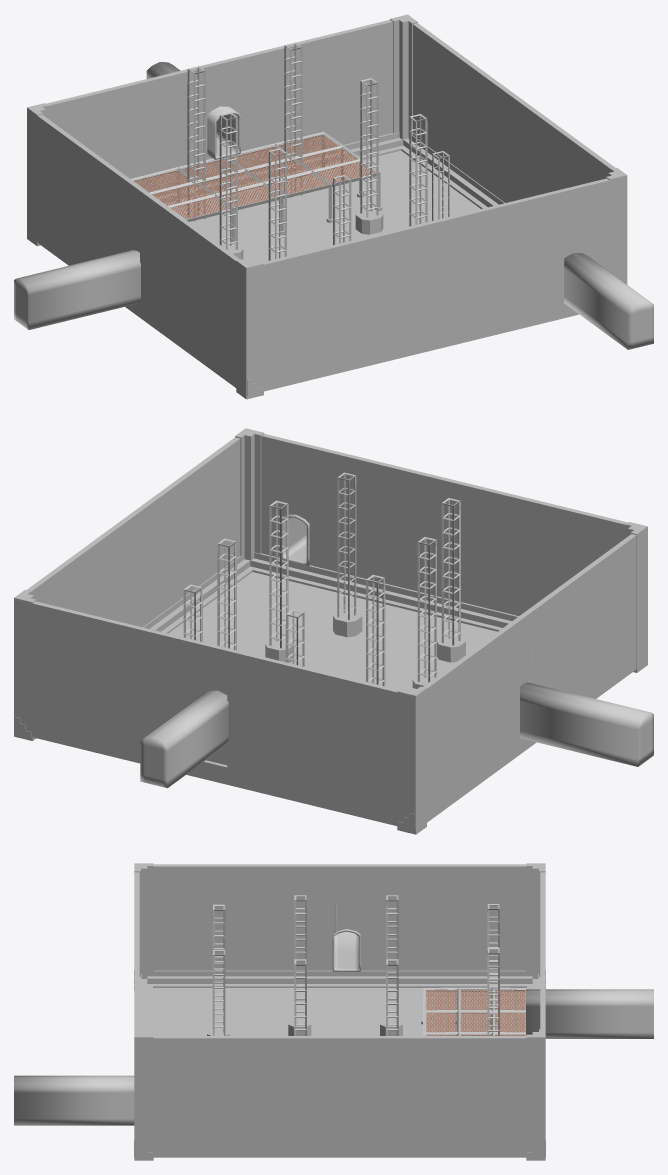
File: warehouseithinkFBX.fbx
3 views of the same model, one above another, from view 1: azimuth 30°, elevation 25°; view 2: azimuth 150°, elevation 25°; view 3: azimuth 270°, elevation 25° (orthographic). The views are drawn at different scales.
Parts seen in each view (by area): view 1: brickwalls, floor, rustywallframes, catwalk, grounddoorway01, grounddoorway02, groundpillar04, groundpillar01, catwalkpillar02, catwalkpillar01, catwalkdoorway, groundpillar05 (+3 smaller); view 2: brickwalls, floor, rustywallframes, grounddoorway01, catwalkdoorway, groundpillar03, groundpillar06, groundpillar05, groundpillar02, groundpillar01, groundpillar04, grounddoorway02 (+2 smaller); view 3: brickwalls, rustywallframes, floor, grounddoorway02, catwalkdoorway, catwalk, grounddoorway01, groundpillar03, groundpillar02, groundpillar01, catwalkpillar02, groundpillar04 (+3 smaller).
Boxes of the visible parts, x1,y1,x2,y2 form: brickwalls: (37,20,626,394); floor: (171,150,480,262); rustywallframes: (27,14,627,399); catwalk: (131,131,382,243); grounddoorway01: (14,250,140,329); grounddoorway02: (564,253,653,349); groundpillar04: (355,78,383,234); groundpillar01: (219,112,243,259); catwalkpillar02: (284,42,302,197); catwalkpillar01: (187,66,205,221); catwalkdoorway: (146,62,240,159); groundpillar05: (409,114,427,226); brickwalls: (14,434,636,829); floor: (169,572,497,689); rustywallframes: (14,428,647,834); grounddoorway01: (520,682,653,766); catwalkdoorway: (140,690,228,788); groundpillar03: (437,498,465,662); groundpillar06: (333,472,362,637); groundpillar05: (265,500,292,663); groundpillar02: (412,537,436,688); groundpillar01: (366,574,385,686); groundpillar04: (217,538,236,650); grounddoorway02: (282,514,309,566); brickwalls: (134,864,545,1156); rustywallframes: (134,863,545,1160); floor: (153,988,525,1035); grounddoorway02: (14,1075,134,1125); catwalkdoorway: (526,989,653,1038); catwalk: (421,987,528,1035); grounddoorway01: (332,929,360,971); groundpillar03: (207,904,229,1035); groundpillar02: (288,895,311,1035); groundpillar01: (380,895,402,1035); catwalkpillar02: (487,948,499,1035); groundpillar04: (386,959,398,1035).
Size of the model in its own units: 3806 by 1174 by 4567.
